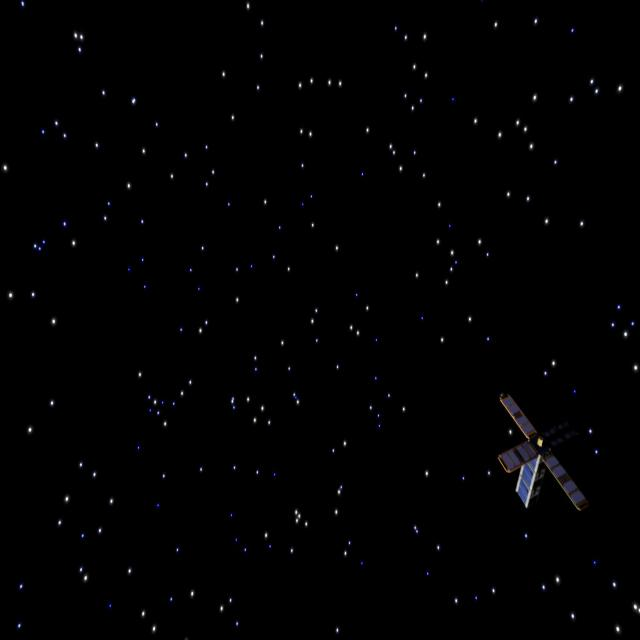medium_debris: (482, 389, 600, 518)
